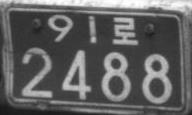1: (80, 15, 105, 43)
2: (21, 46, 54, 98)
4: (61, 50, 92, 99)
8: (141, 52, 172, 104), (100, 51, 131, 102)
9: (47, 13, 74, 42)
로: (112, 15, 139, 44)
